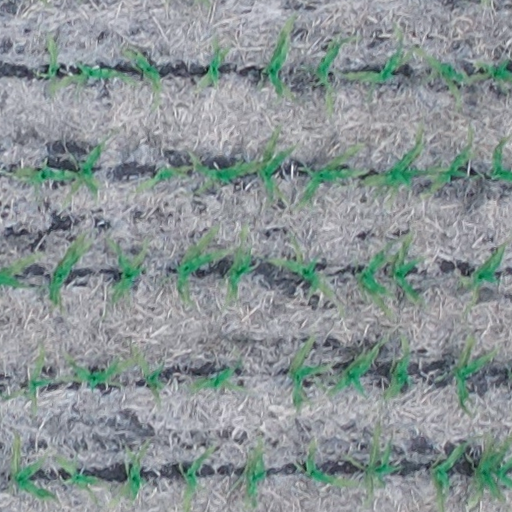planta: (361, 125, 433, 188), (176, 227, 229, 306), (299, 143, 368, 201), (266, 243, 335, 299), (452, 333, 498, 412), (326, 335, 386, 395), (45, 234, 92, 307), (415, 47, 474, 105), (423, 128, 473, 194), (342, 39, 412, 84), (363, 423, 401, 505), (463, 243, 505, 314), (288, 333, 328, 406), (10, 436, 56, 499), (191, 152, 260, 194), (471, 433, 511, 505), (302, 438, 359, 488), (54, 454, 111, 503), (61, 351, 134, 389), (262, 13, 295, 97), (257, 125, 295, 197), (121, 46, 163, 111), (107, 238, 149, 301), (315, 35, 350, 109), (51, 62, 136, 92), (390, 234, 425, 304), (357, 245, 392, 315), (110, 443, 149, 505), (67, 141, 106, 199), (132, 344, 165, 408), (26, 344, 56, 412), (6, 161, 78, 189), (187, 360, 246, 393), (196, 35, 231, 90), (383, 333, 412, 399), (226, 230, 253, 300), (242, 436, 265, 508), (37, 32, 61, 95), (138, 163, 189, 191), (471, 55, 511, 84), (492, 134, 511, 180)
